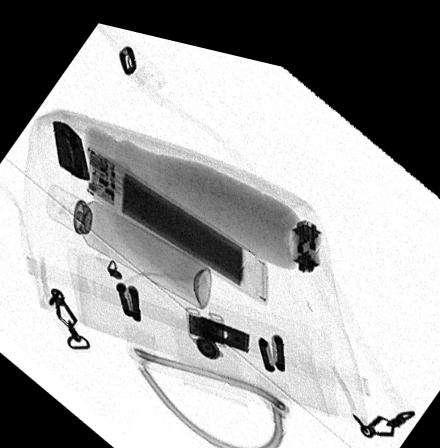Lighter: (51, 118, 89, 178)
Powerbank: (85, 140, 267, 294)
Sprayer: (43, 180, 211, 300)
